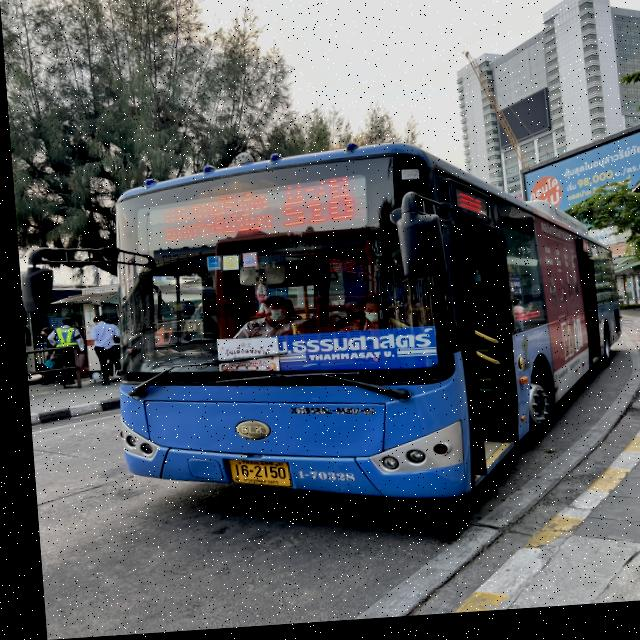BMTA-bus: (110, 149, 615, 509)
Bus Line Number: (269, 177, 363, 238)
Bus Side Number: (286, 461, 358, 494)
Destination Sign: (267, 332, 432, 383)
